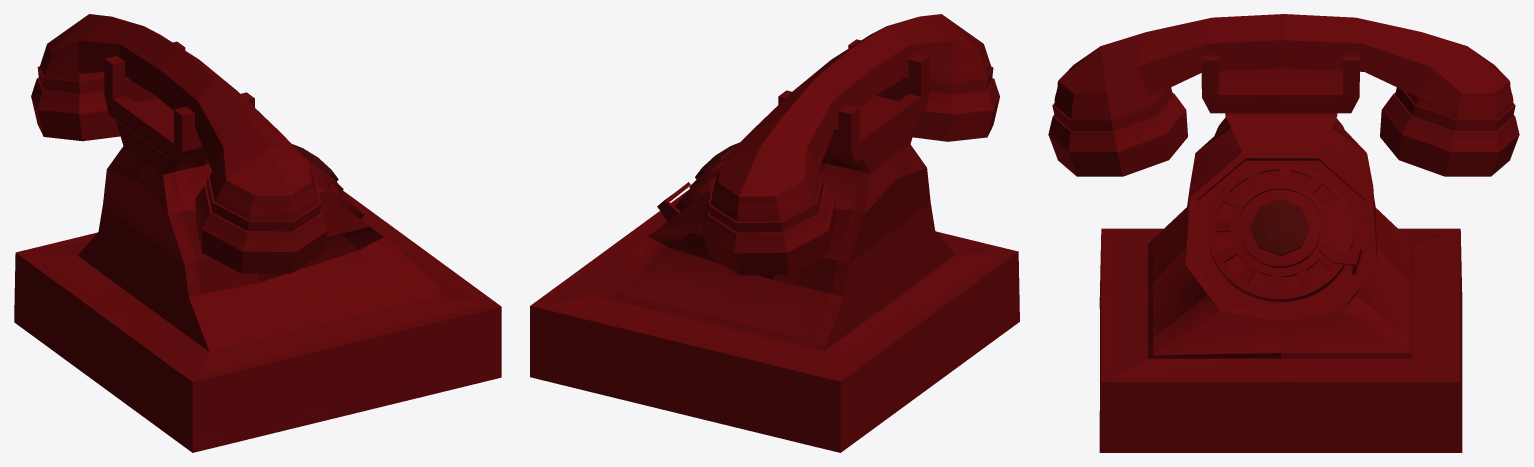
Rendered from Telefono.fbx.
3 views of the same model, side by side, from view 1: azimuth 30°, elevation 25°; view 2: azimuth 150°, elevation 25°; view 3: azimuth 270°, elevation 25° (orthographic).
Parts seen in each view (by area): view 1: phone; view 2: phone; view 3: phone.
Boxes of the visible parts, left/top/right/bottom form: phone: left=14, top=14, right=501, bottom=452; phone: left=530, top=14, right=1019, bottom=452; phone: left=1048, top=14, right=1519, bottom=452.
Bounding box in the file's own units: 8.33 × 8.3 × 10.81.
